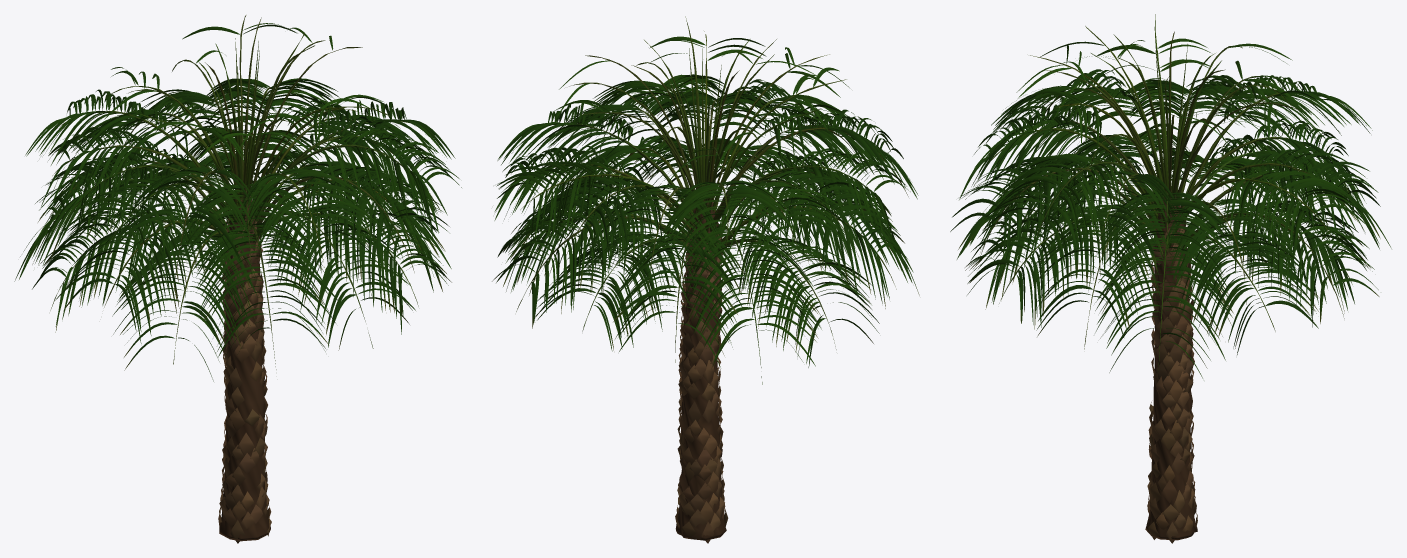
The model's file is palm_lo.glb.
3 renders of one model, left to right at view 1: azimuth 30°, elevation 25°; view 2: azimuth 150°, elevation 25°; view 3: azimuth 270°, elevation 25°, orthographic.
Visible parts, largest first — view 1: Palmeira Phoenix_Foliolos, Palmeira Phoenix_Peciolos_e_raques, Palmeira Phoenix_Bases_foliares_e_fibras, Palmeira Phoenix_Tronco; view 2: Palmeira Phoenix_Foliolos, Palmeira Phoenix_Peciolos_e_raques, Palmeira Phoenix_Bases_foliares_e_fibras, Palmeira Phoenix_Tronco; view 3: Palmeira Phoenix_Foliolos, Palmeira Phoenix_Peciolos_e_raques, Palmeira Phoenix_Bases_foliares_e_fibras, Palmeira Phoenix_Tronco.
Boxes of the visible parts, x1,y1,x2,y2 form: Palmeira Phoenix_Foliolos: [14, 23, 461, 381]; Palmeira Phoenix_Peciolos_e_raques: [38, 15, 440, 369]; Palmeira Phoenix_Bases_foliares_e_fibras: [218, 218, 271, 543]; Palmeira Phoenix_Tronco: [219, 196, 270, 541]; Palmeira Phoenix_Foliolos: [492, 36, 919, 368]; Palmeira Phoenix_Peciolos_e_raques: [512, 16, 908, 384]; Palmeira Phoenix_Bases_foliares_e_fibras: [675, 222, 728, 543]; Palmeira Phoenix_Tronco: [675, 200, 726, 540]; Palmeira Phoenix_Foliolos: [950, 38, 1391, 378]; Palmeira Phoenix_Peciolos_e_raques: [973, 14, 1363, 371]; Palmeira Phoenix_Bases_foliares_e_fibras: [1147, 220, 1197, 543]; Palmeira Phoenix_Tronco: [1145, 190, 1197, 540].
Size of the model in its own units: 4.75 by 5.95 by 4.8.
